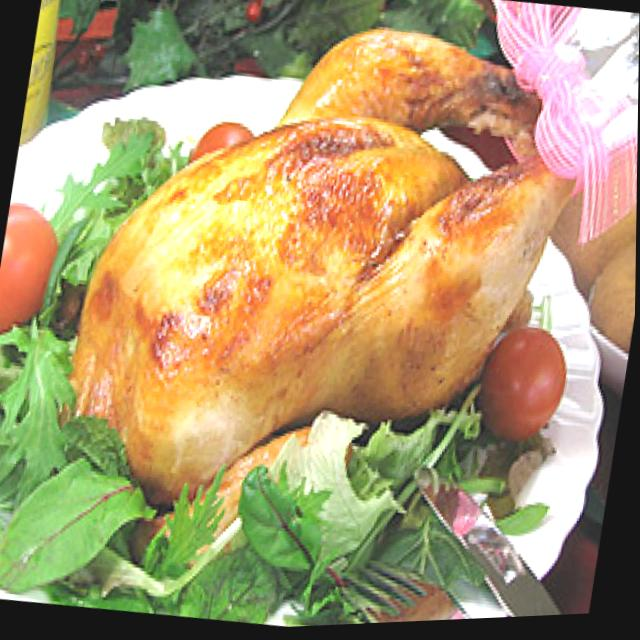鸡肉料理 含炸鸡: (49, 0, 625, 556)
